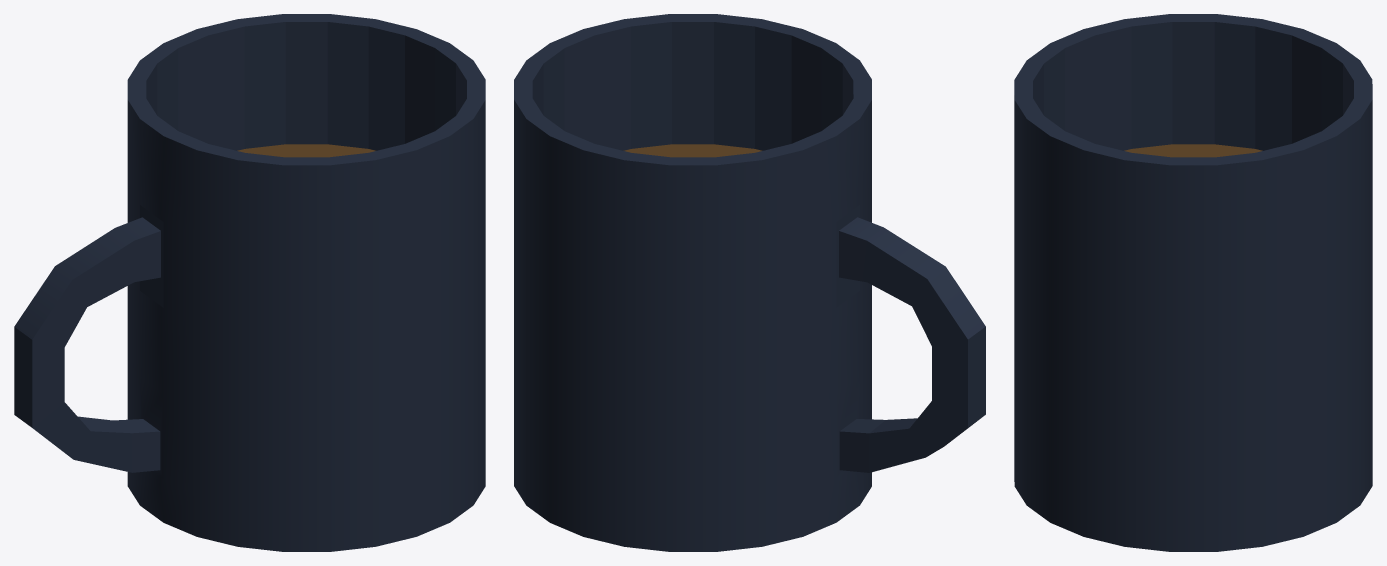
File: Mug 1.fbx
3 renders of one model, left to right at view 1: azimuth 30°, elevation 25°; view 2: azimuth 150°, elevation 25°; view 3: azimuth 270°, elevation 25°, orthographic.
Visible parts, largest first — view 1: pCylinder1; view 2: pCylinder1; view 3: pCylinder1.
Part boxes in pixels (left/top/right/bottom): pCylinder1: left=14, top=14, right=485, bottom=551; pCylinder1: left=514, top=14, right=985, bottom=551; pCylinder1: left=1014, top=14, right=1372, bottom=551.
Size of the model in its own units: 3.34 by 2.81 by 2.36.
